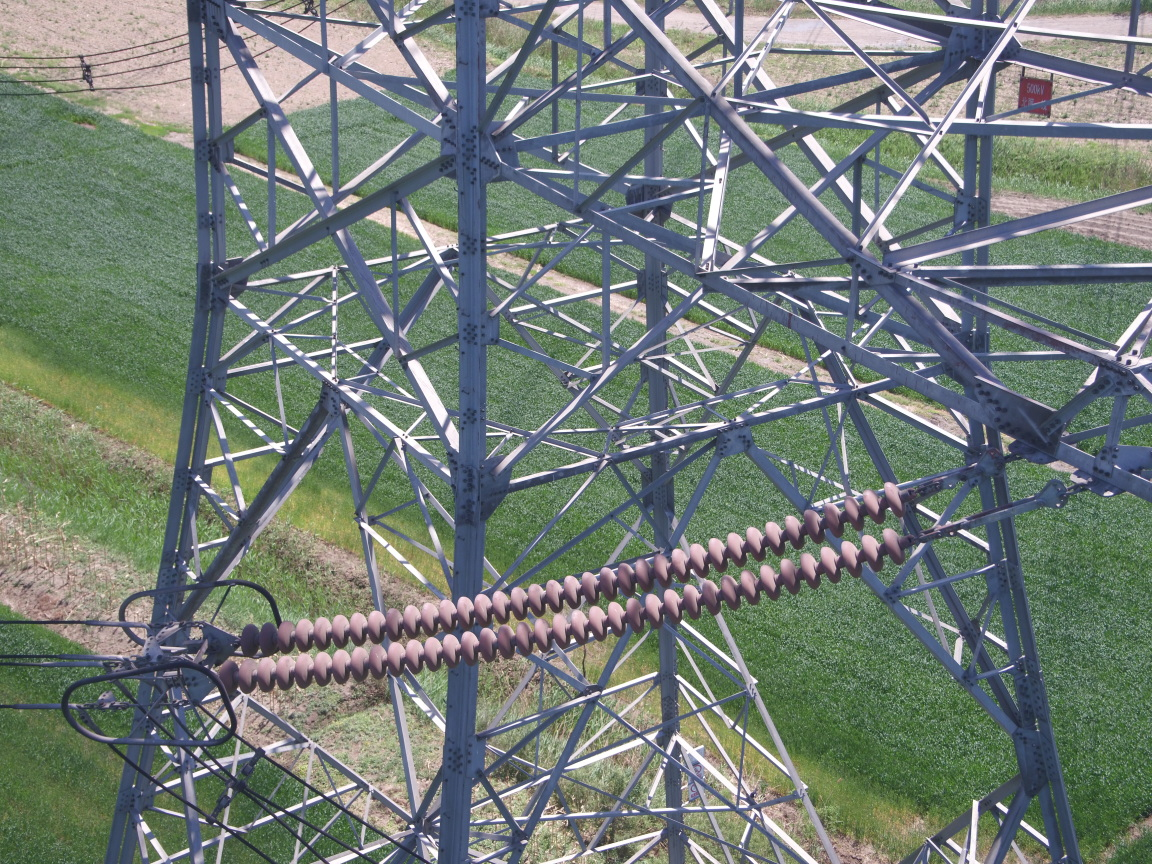insulator: (200, 478, 973, 703)
